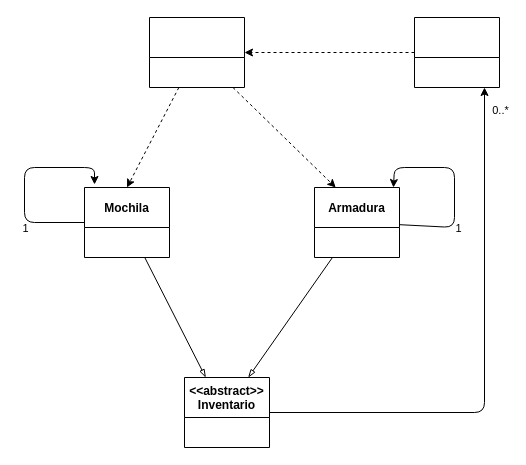
Image size: 526x465. Some labels were removed from this diagram. Each missing label, with the centre of its shape:
"Jogador" goes at point (457, 52).
"JogadorFacade" goes at point (196, 52).
